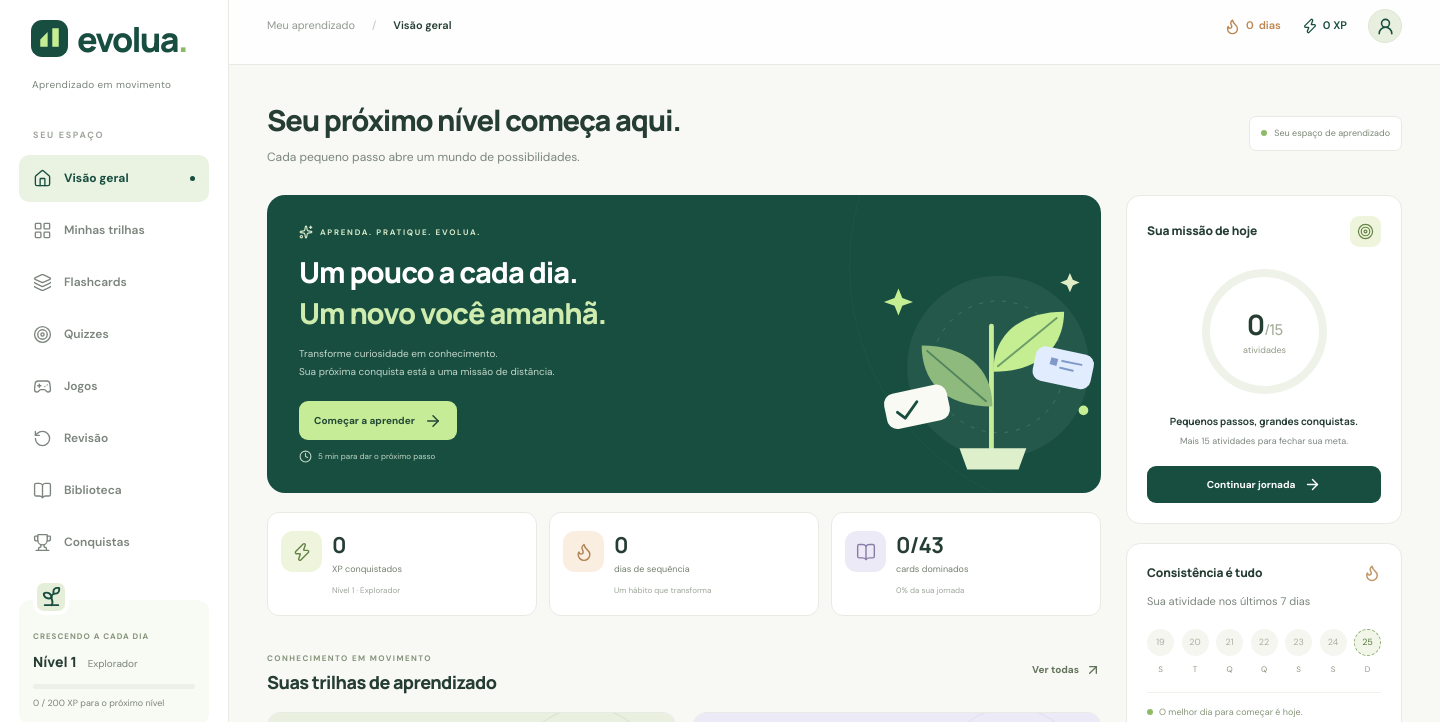
Test case: Evolua application flows without network or browser automation › opens the game laboratory and records a true-or-false answer
The width and height of the screenshot is (1440, 722).
Expected: the heading "Seu próximo nível começa aqui." is shown, [267,100,680,141]
Click the link "Jogos". click: click(65, 386)
box: [33,377,98,396]
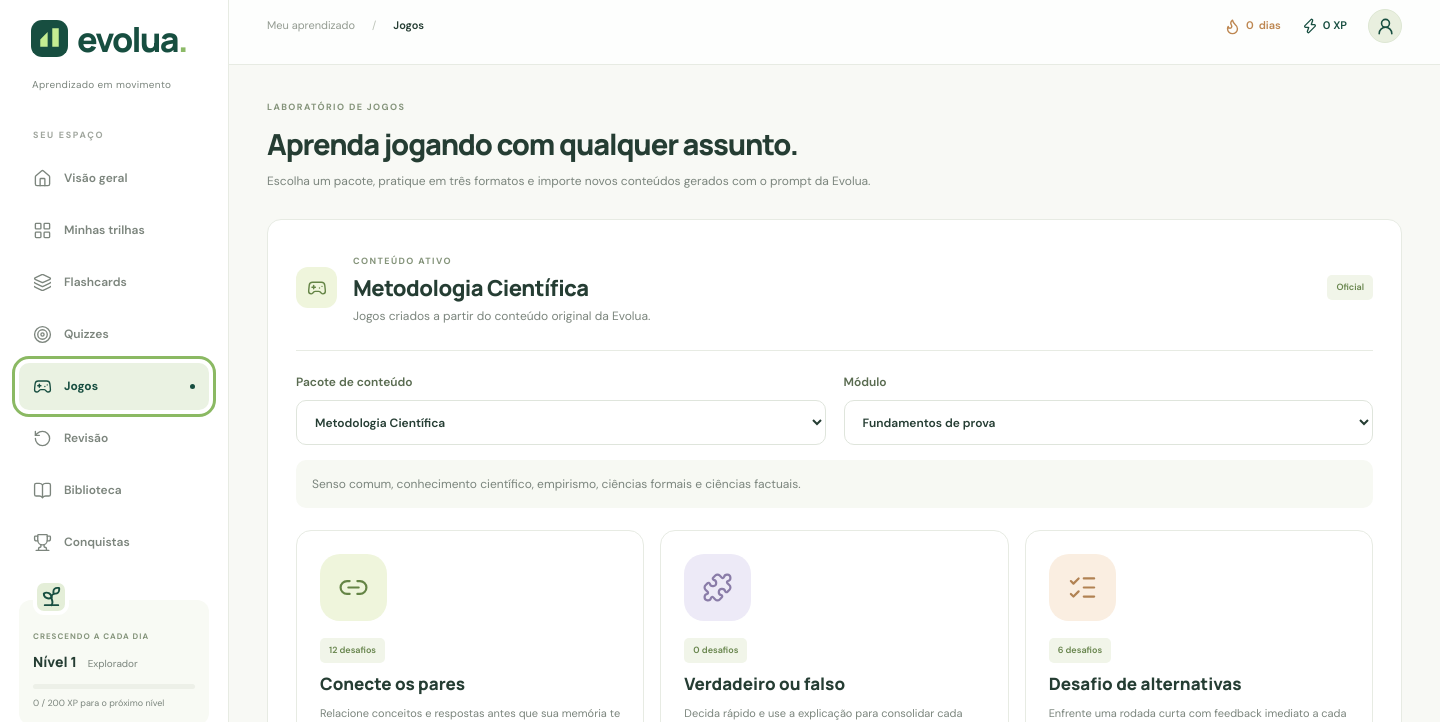
Now the heading "Aprenda jogando com qualquer assunto." is shown, box [267,124,870,165]
Select "Matemática de teste" in the dropdown labelled "Pacote de conteúdo". click: (561, 422)
box: [296,400,826,445]
(page scrolled)
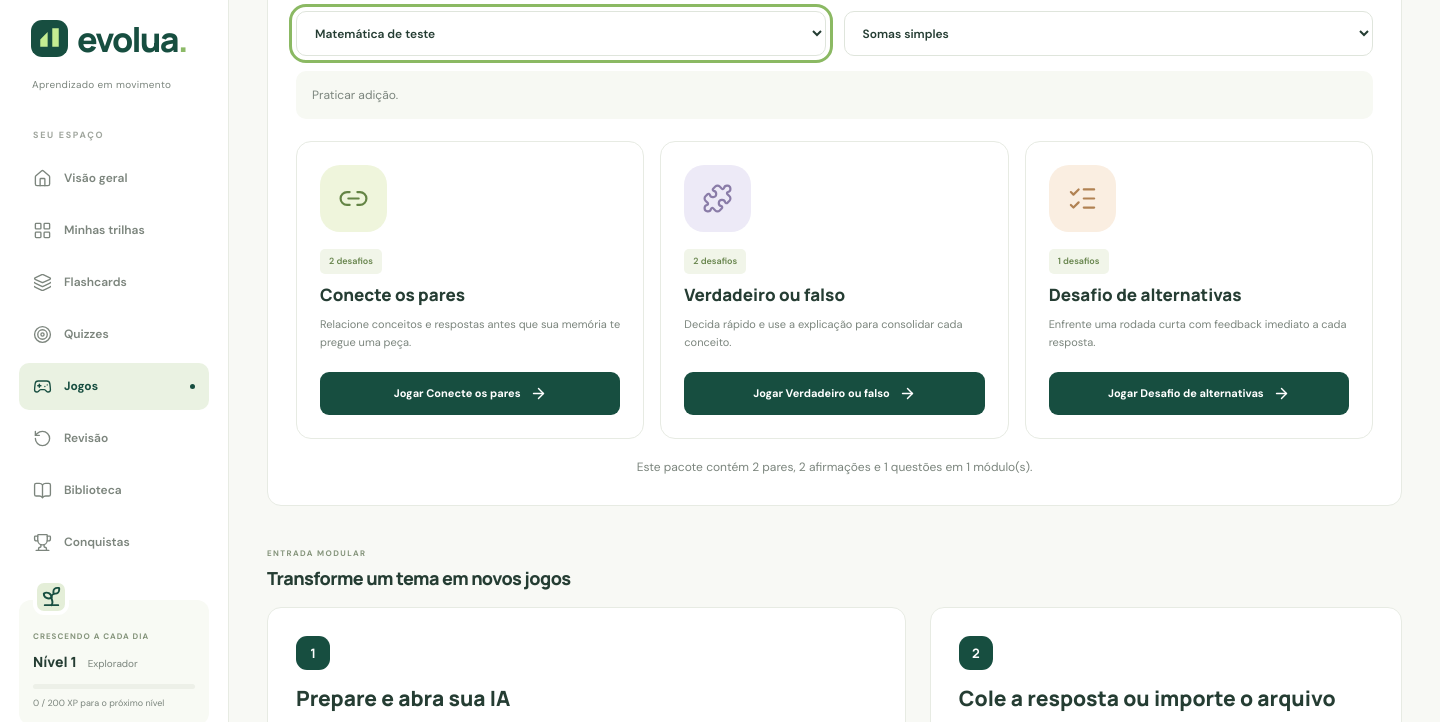
Click the button "Jogar Verdadeiro ou falso". click: click(834, 394)
box: [684,372,985,415]
(page scrolled)
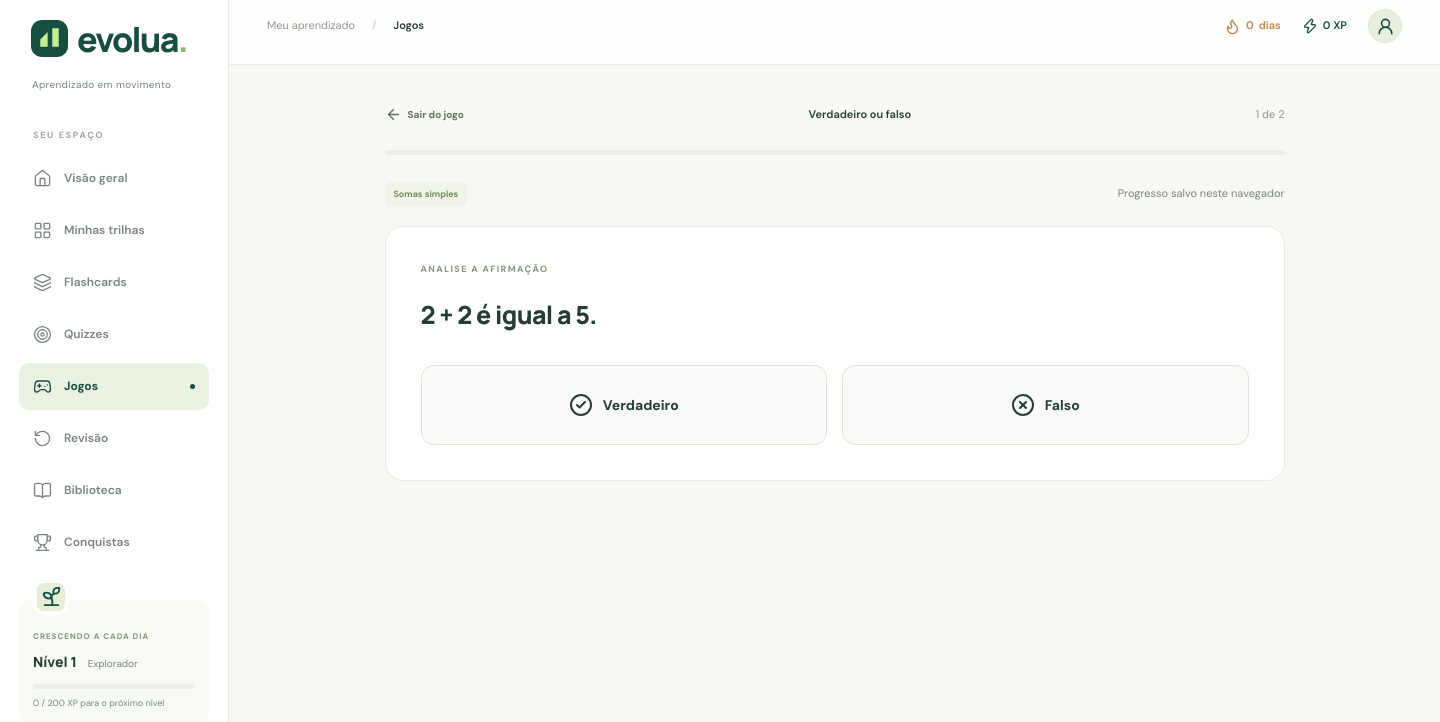
Click the button "Verdadeiro". click: click(624, 405)
box: [420,365,827,445]
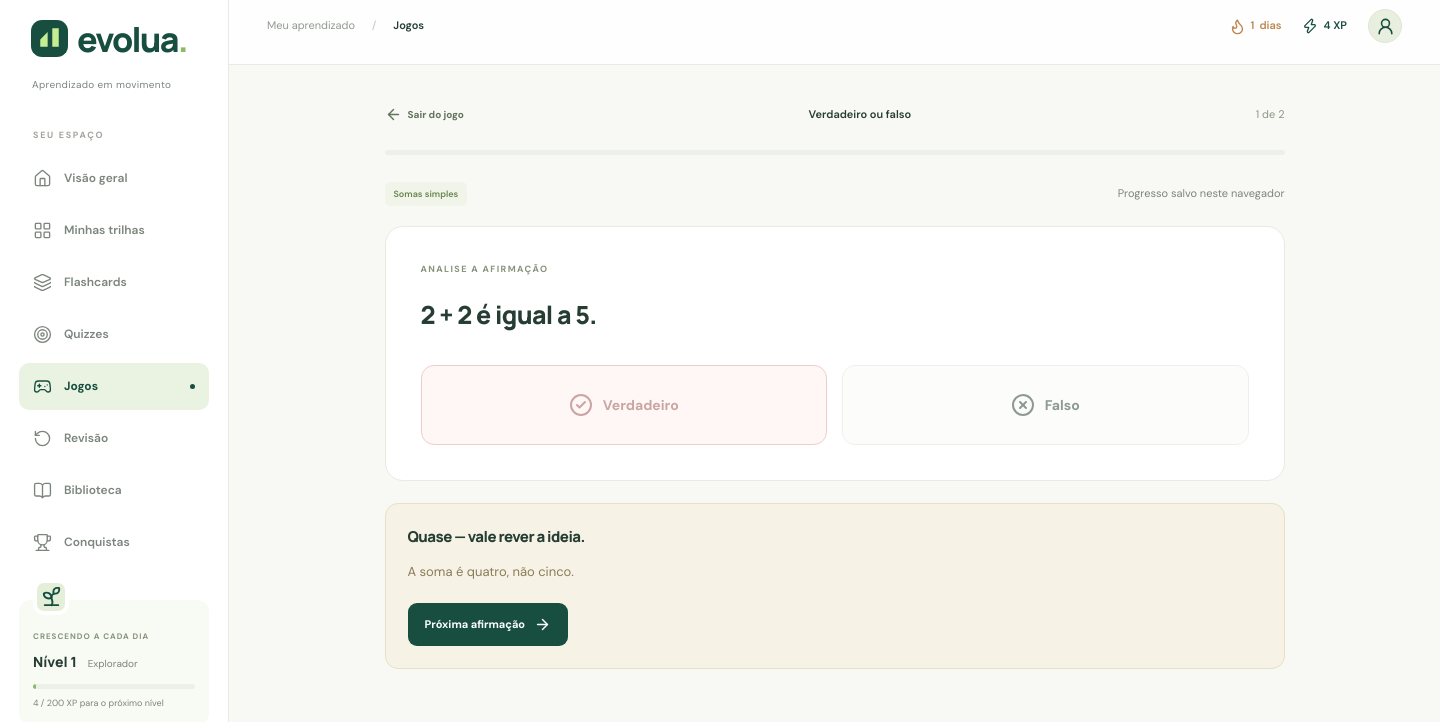
Now the message "Quase — vale rever a ideia. A soma é quatro, não cinco. Próxima afirmação" is shown, box [384,503,1284,669]
